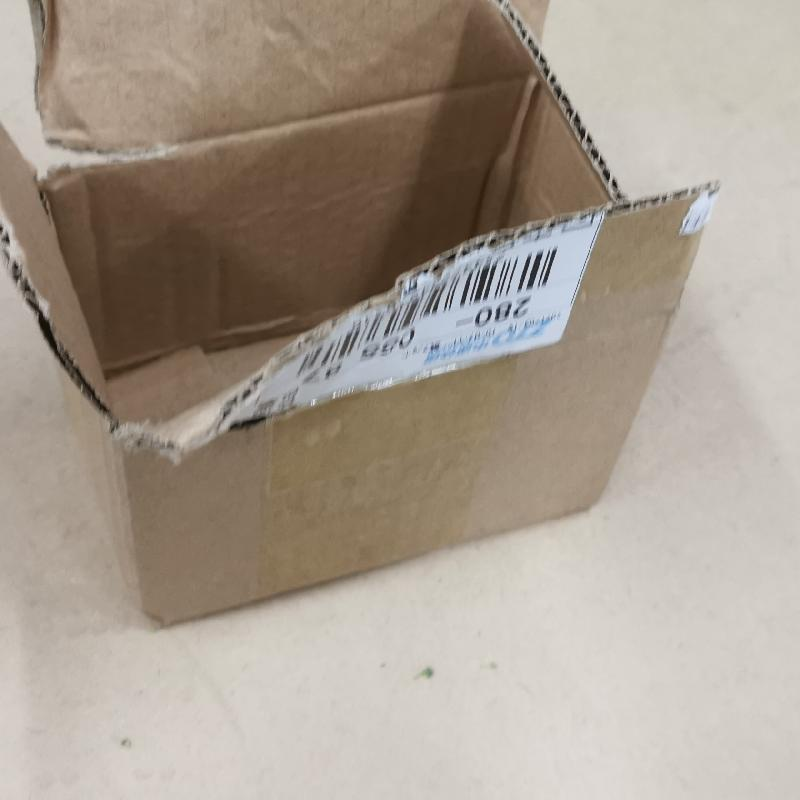boxes: (4, 5, 722, 628)
